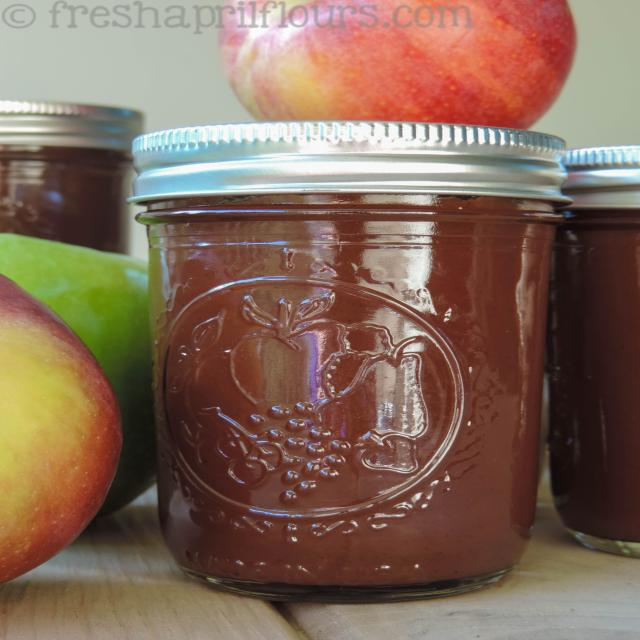apple: (214, 1, 576, 132)
